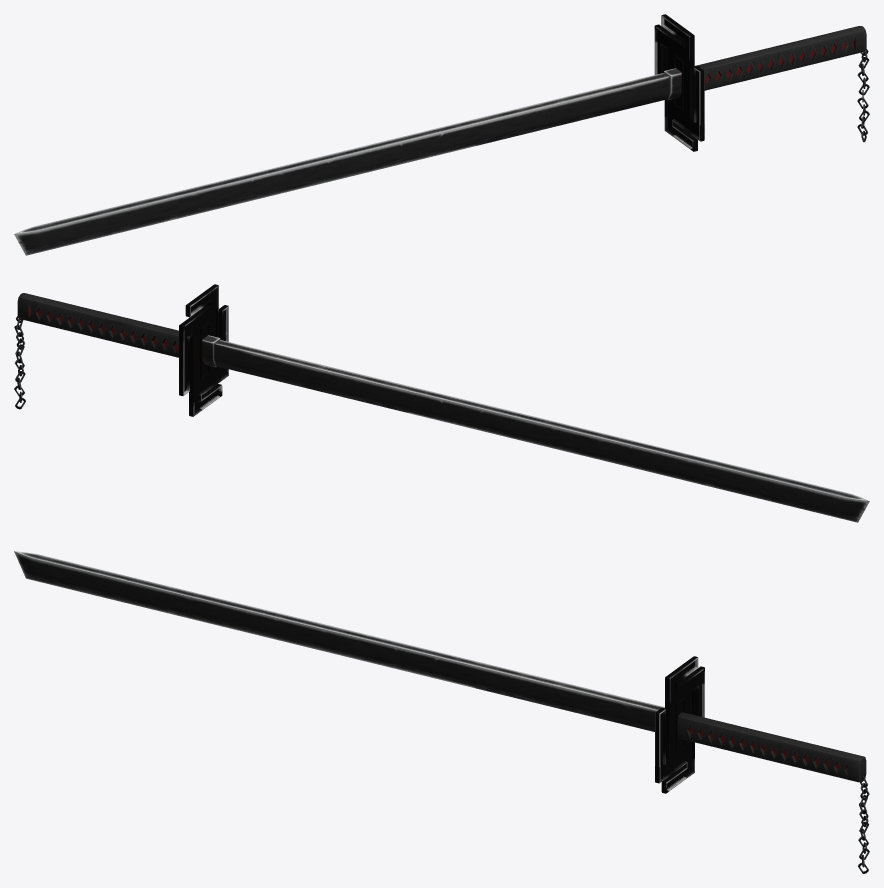
Rendered from tensa_zangetsu.glb.
The picture shows the model from 3 angles, top to bottom: view 1: azimuth 30°, elevation 25°; view 2: azimuth 150°, elevation 25°; view 3: azimuth 330°, elevation 25°; orthographic projection.
Visible parts, largest first — view 1: polySurface19; view 2: polySurface19; view 3: polySurface19.
Boxes of the visible parts, bbox=[...] form: polySurface19: bbox=[14, 14, 869, 255]; polySurface19: bbox=[14, 284, 869, 522]; polySurface19: bbox=[14, 551, 869, 873].
Size of the model in its own units: 678 by 121 by 62.54.
1 material, 1 textured.
